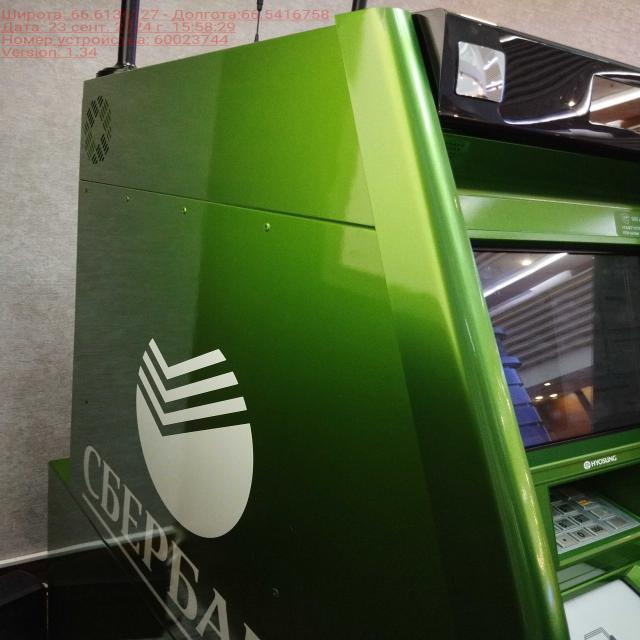bank: (60, 26, 639, 640)
